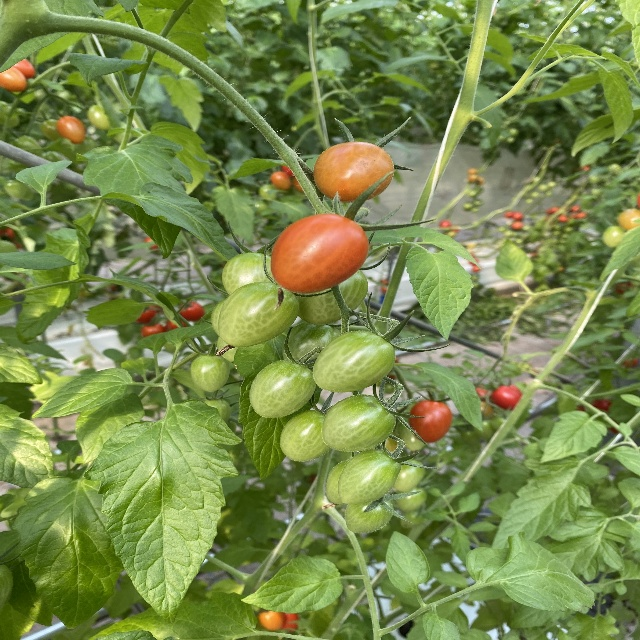l_fully_ripened: (409, 400, 453, 444), (490, 385, 522, 410)
l_green: (312, 330, 397, 392), (219, 281, 298, 347), (321, 394, 397, 452), (295, 269, 369, 325), (248, 359, 316, 418), (338, 449, 401, 504), (280, 410, 333, 463), (282, 323, 342, 369), (221, 251, 280, 296), (345, 494, 394, 533), (191, 354, 229, 392), (326, 459, 351, 505), (205, 399, 230, 423)
l_half_ripened: (270, 213, 369, 294), (313, 141, 395, 203)
